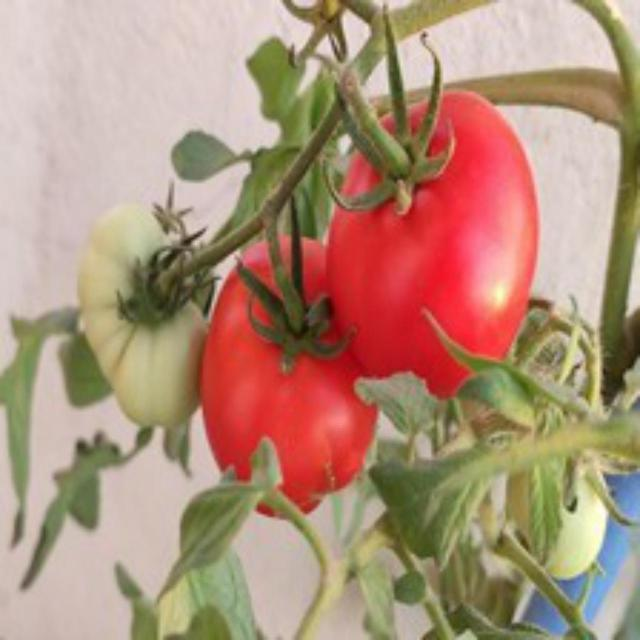tomato: (313, 93, 553, 405)
